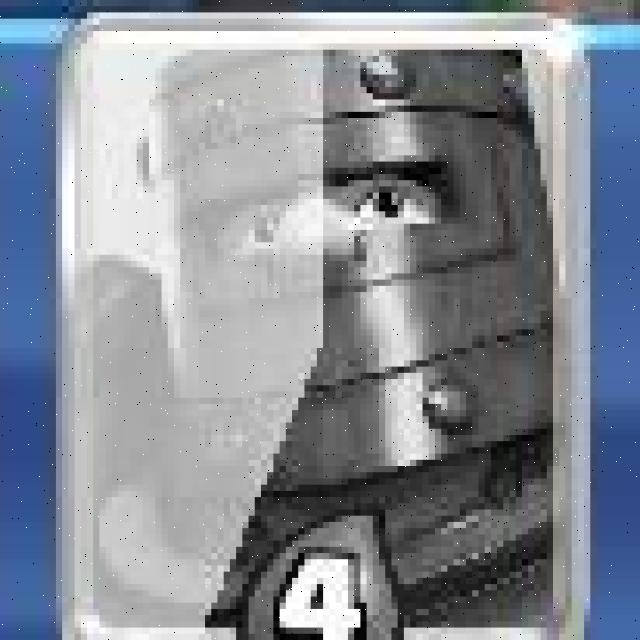Dark_Prince: (46, 2, 596, 640)
